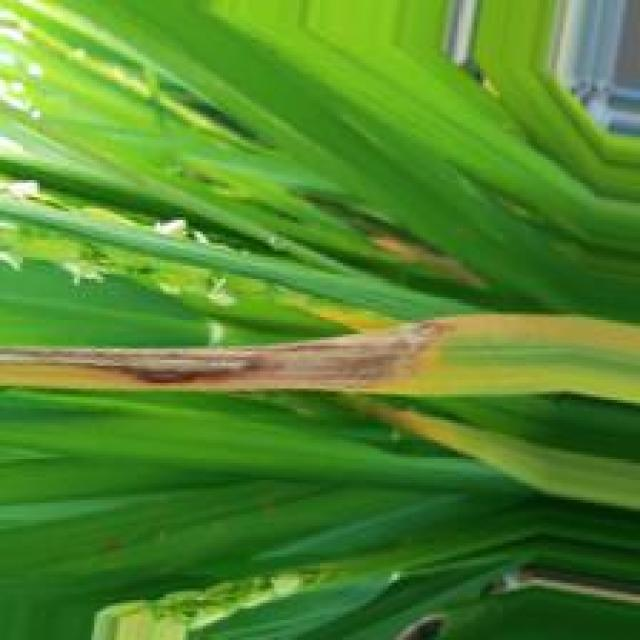Leaf_Scald: (0, 322, 457, 391)
